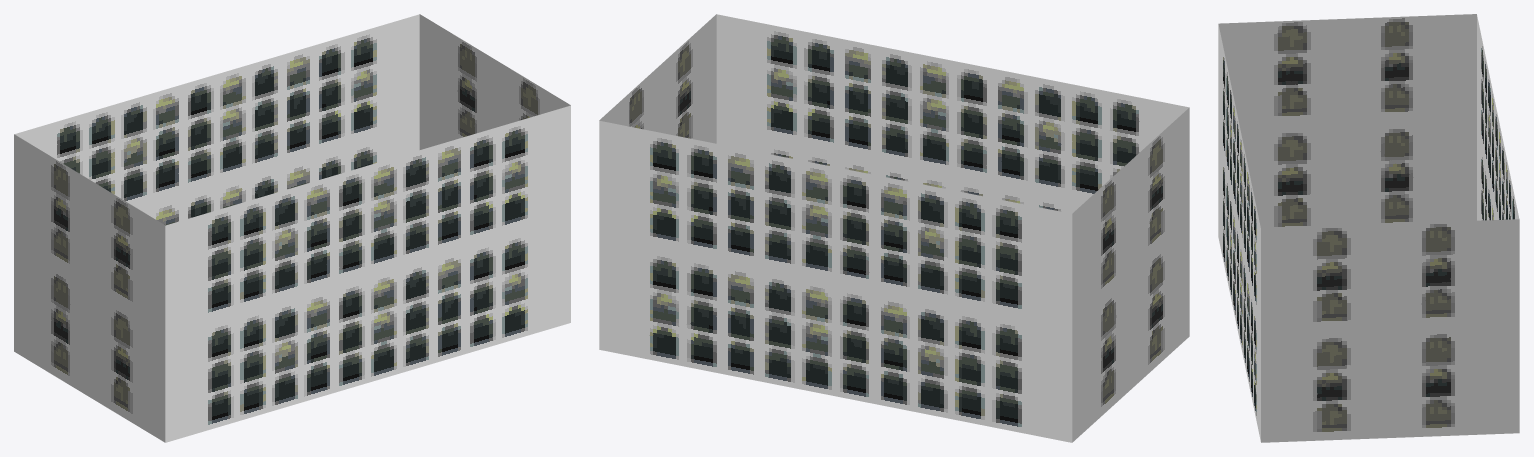
3 renders of one model, left to right at view 1: azimuth 30°, elevation 25°; view 2: azimuth 150°, elevation 25°; view 3: azimuth 270°, elevation 25°, orthographic. The views are drawn at different scales.
Parts seen in each view (by area): view 1: obj-92; view 2: obj-92; view 3: obj-92.
Part boxes in pixels (left/top/right/bottom): obj-92: left=14, top=14, right=570, bottom=442; obj-92: left=599, top=14, right=1189, bottom=442; obj-92: left=1218, top=14, right=1519, bottom=442.
Size of the model in its own units: 5.53 by 2.57 by 3.27.
Materials: 1 (1 with a texture image).
